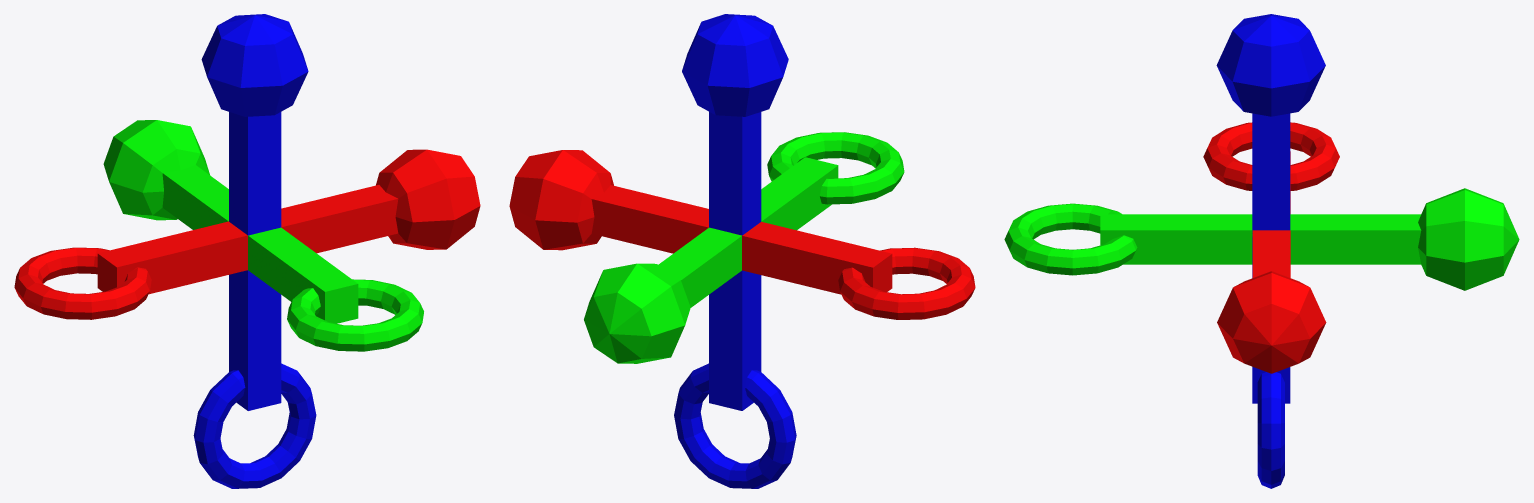
Rendered from axis.glb.
3 renders of one model, left to right at view 1: azimuth 30°, elevation 25°; view 2: azimuth 150°, elevation 25°; view 3: azimuth 270°, elevation 25°, orthographic.
Visible parts, largest first — view 1: Z, X, Y; view 2: Z, X, Y; view 3: Y, Z, X.
Part boxes in pixels (box(x1,y1,x2,y2)): Z: box(193, 14, 316, 488); X: box(14, 149, 480, 319); Y: box(103, 120, 423, 351); Z: box(674, 14, 796, 488); X: box(509, 150, 975, 319); Y: box(584, 132, 904, 363); Y: box(1004, 188, 1519, 290); Z: box(1216, 14, 1325, 488); X: box(1203, 122, 1339, 373).
Bounding box in the file's own units: 9.42 × 9.42 × 9.42.
3 materials, 3 textured.
